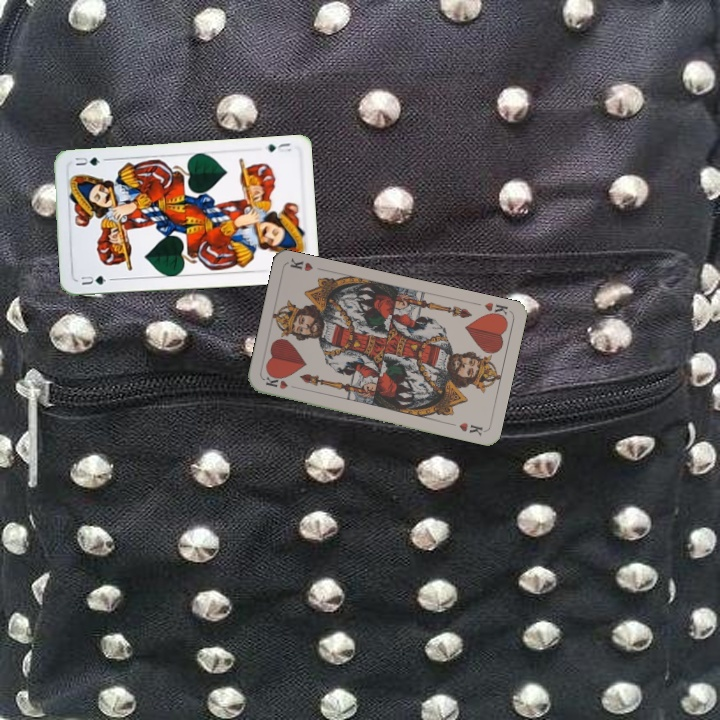GU: (77, 271, 109, 288), (261, 139, 294, 155)
HK: (261, 372, 301, 392), (480, 298, 511, 322)
